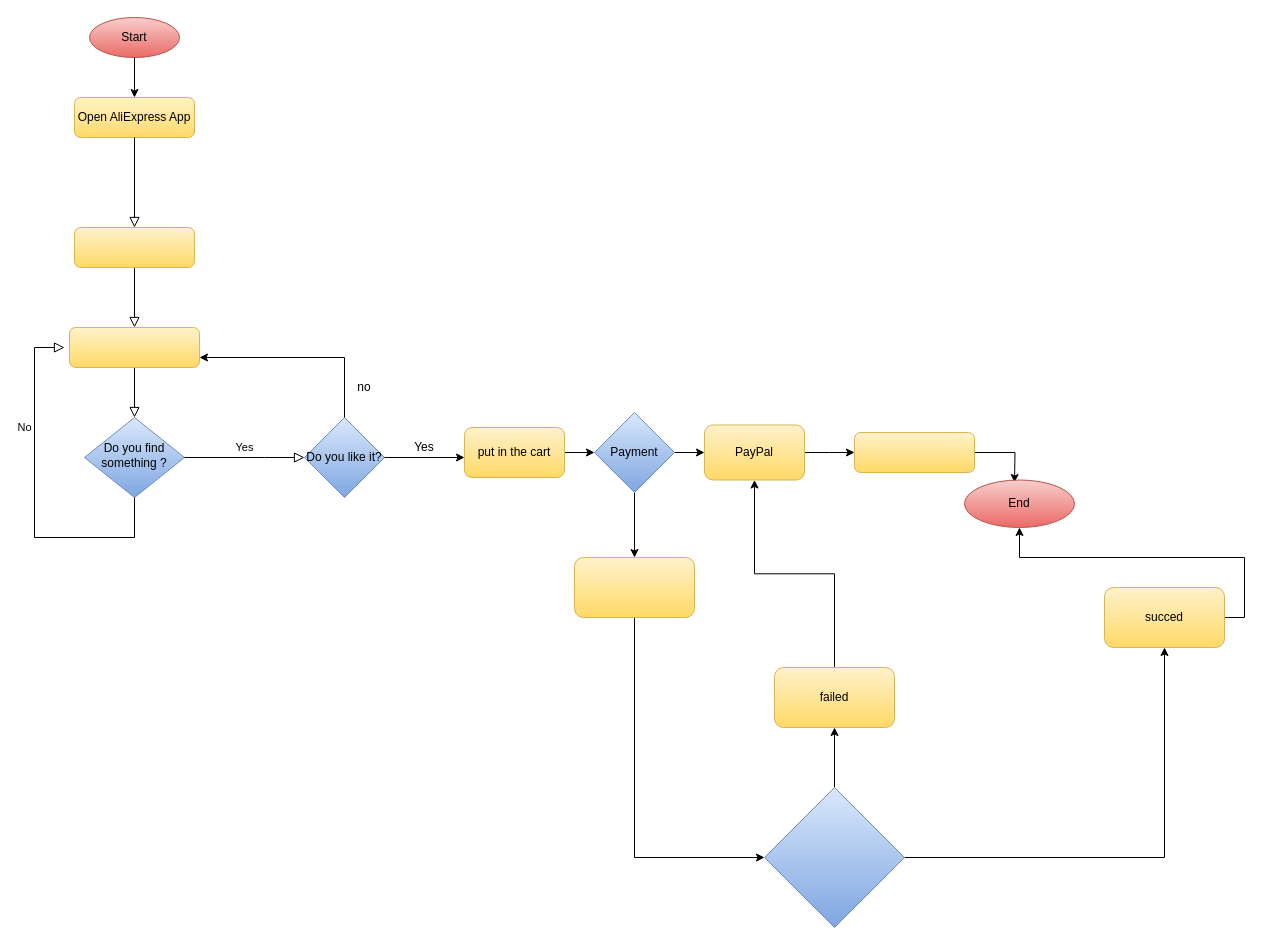
Some shapes in this 1270 by 945 pixel diagram are drawn without their labels. The centre of each missing label's shape, as x and y in pixels:
"browse in the search bar" belongs at [134,247].
"Card" belongs at [634,587].
"Click Pay" belongs at [914,452].
"scroll trough options" belongs at [134,347].
"Type in details" belongs at [834,857].
